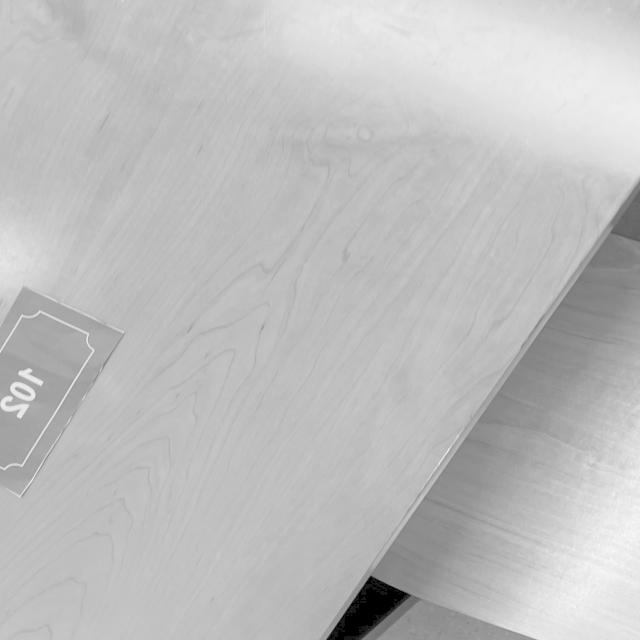Card: (0, 247, 149, 508)
